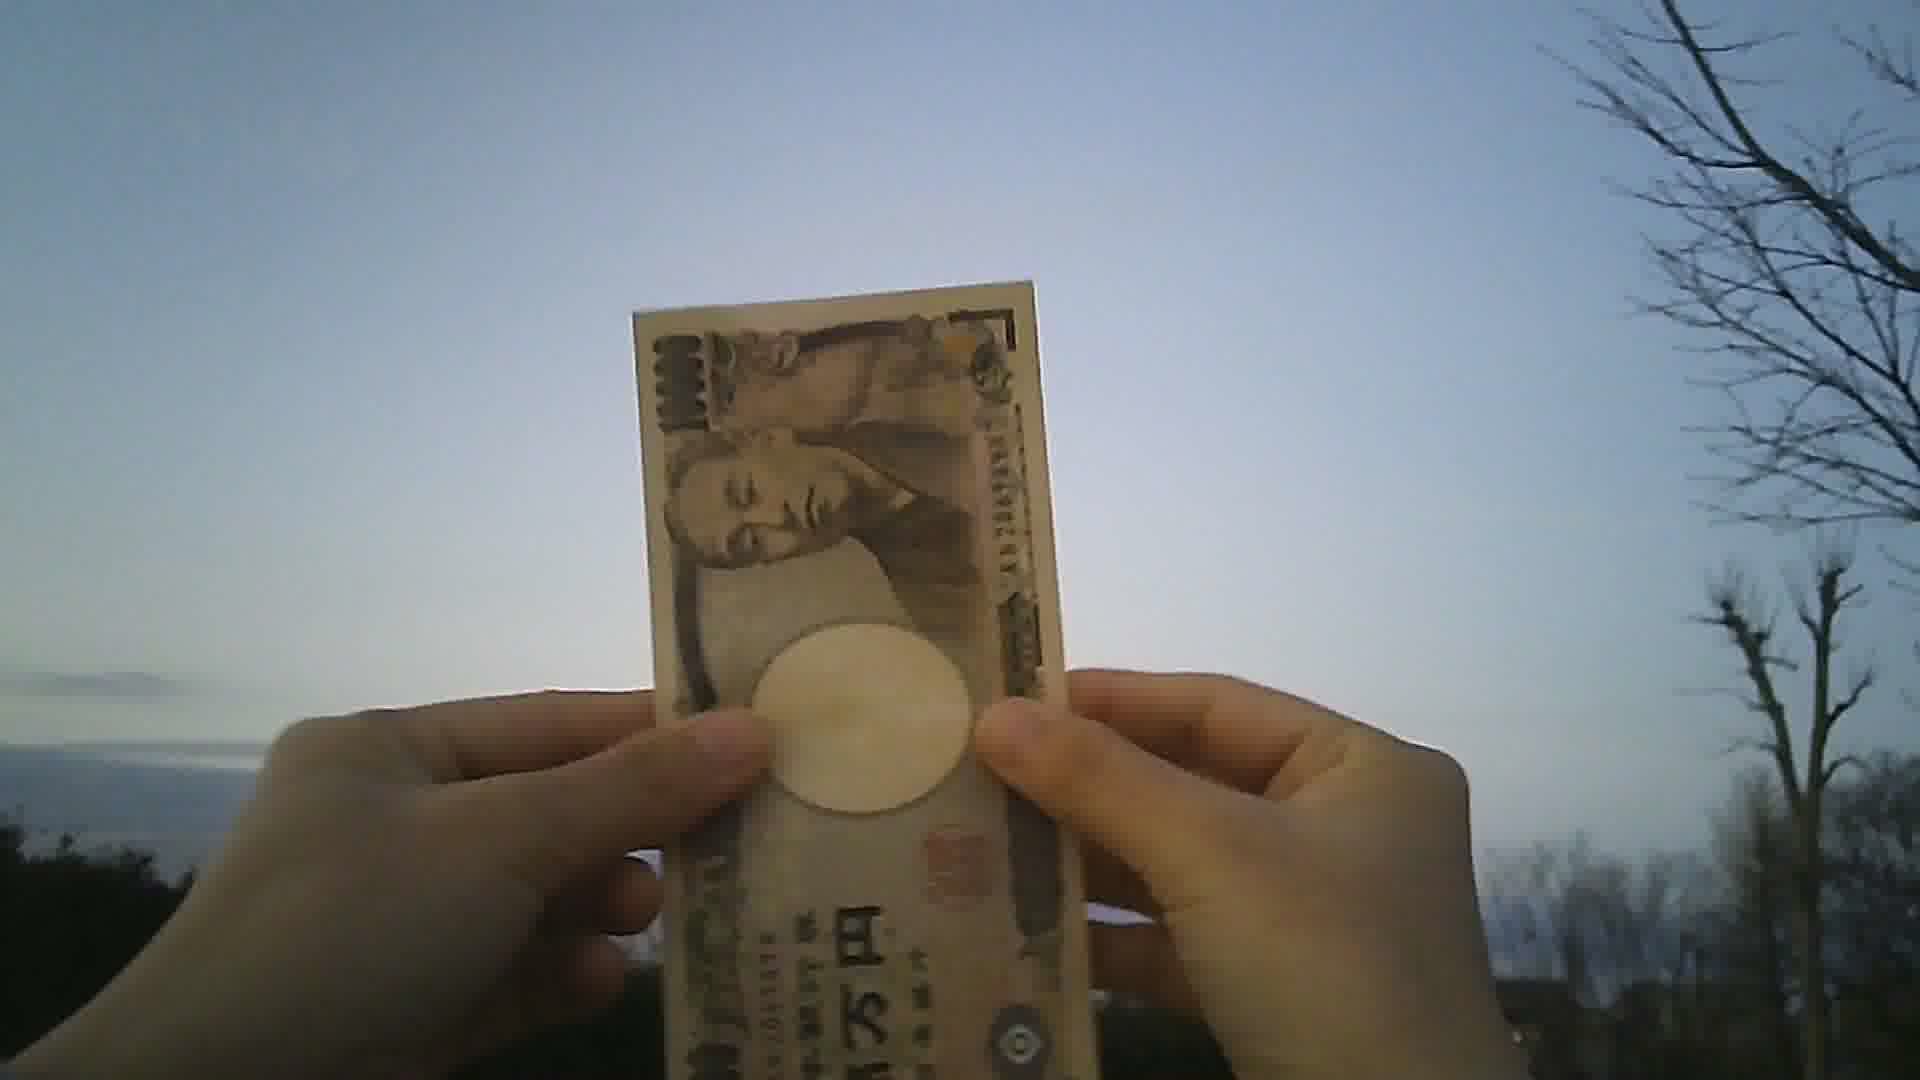10,000 Yen: (621, 280, 1116, 1077)
